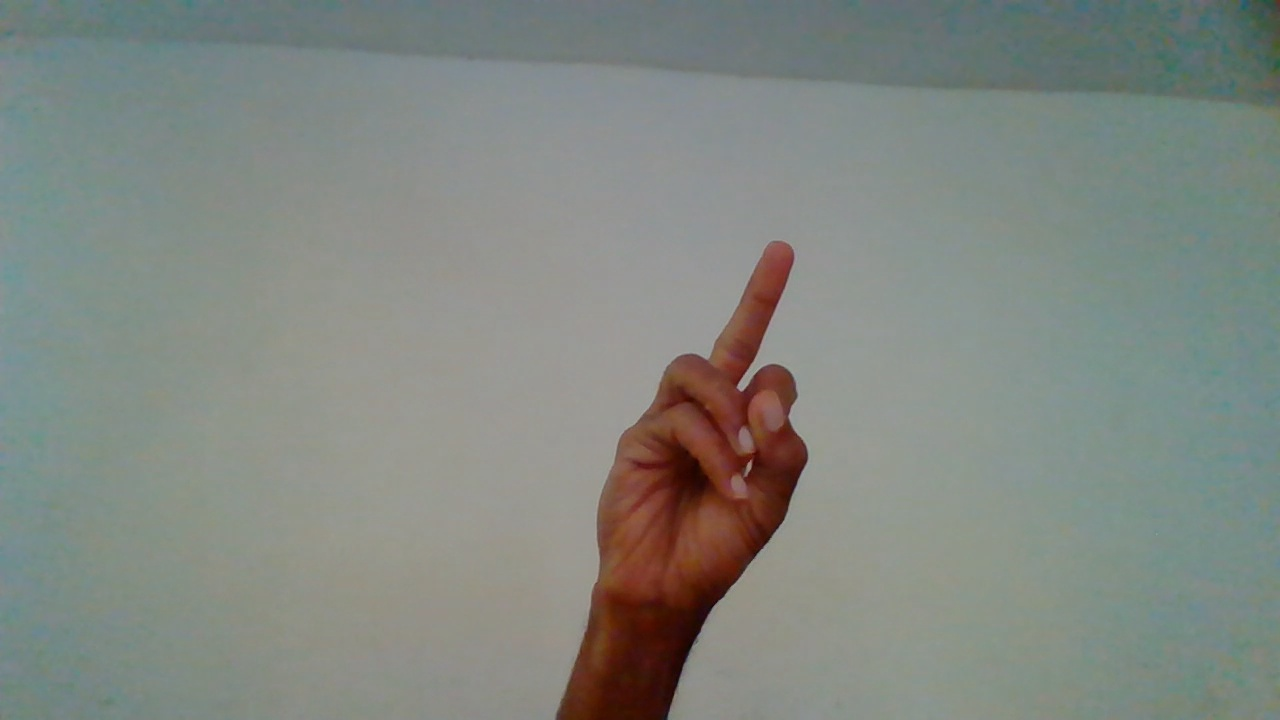he: (601, 242, 816, 700)
